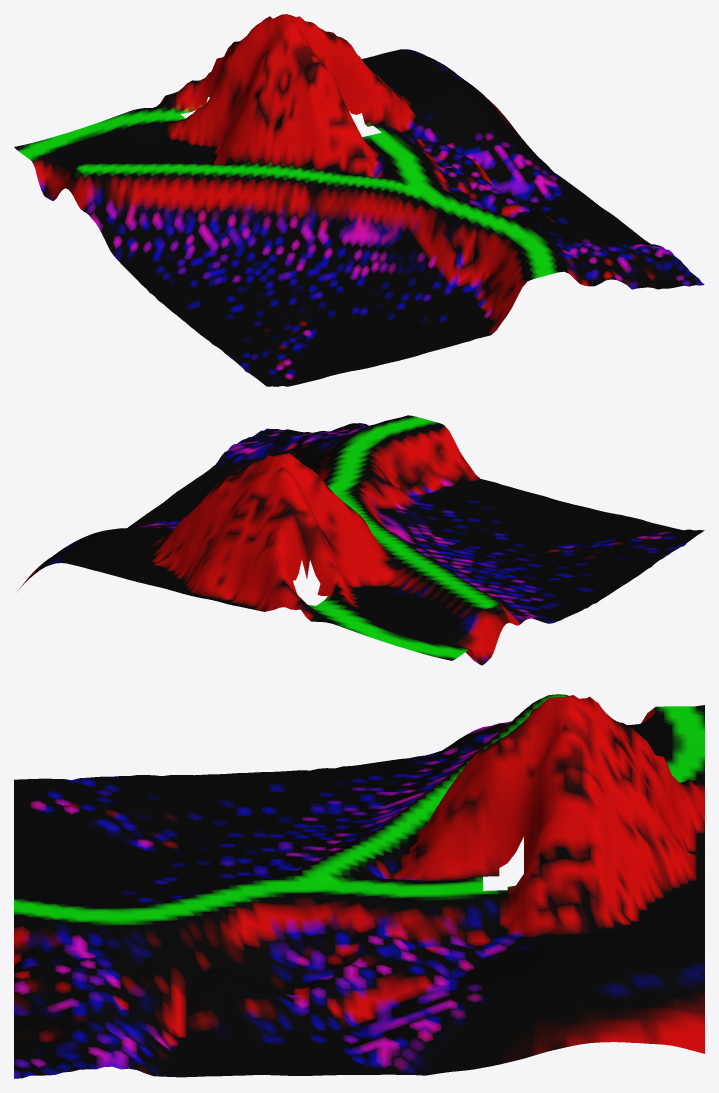
File: SM_AsirMountains_Terrain_2_2.fbx
3 renders of one model, top to bottom at view 1: azimuth 30°, elevation 25°; view 2: azimuth 150°, elevation 25°; view 3: azimuth 270°, elevation 25°, orthographic. The views are drawn at different scales.
Visible parts, largest first — view 1: SM_AsirMountains_Terrain_2_2; view 2: SM_AsirMountains_Terrain_2_2; view 3: SM_AsirMountains_Terrain_2_2.
Boxes of the visible parts, box(x1,y1,x2,y2) form: SM_AsirMountains_Terrain_2_2: box(14, 14, 704, 386); SM_AsirMountains_Terrain_2_2: box(18, 415, 704, 665); SM_AsirMountains_Terrain_2_2: box(14, 694, 704, 1078).
Size of the model in its own units: 50400 by 19244 by 50400.
